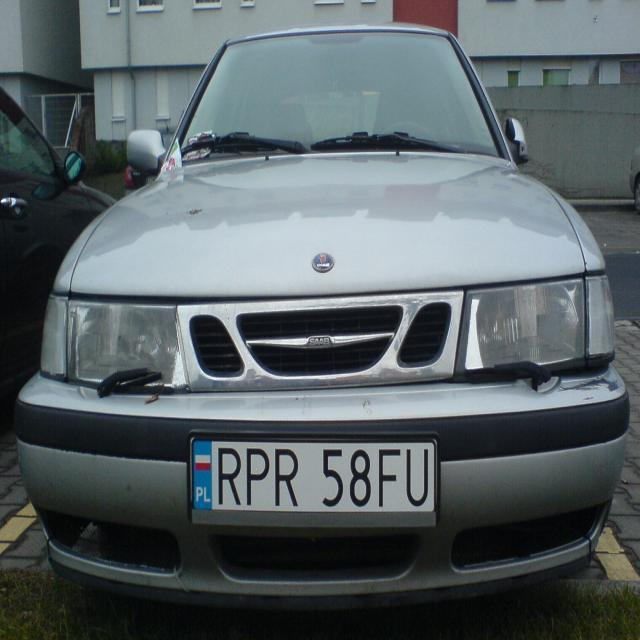license-plates: (192, 439, 436, 512)
